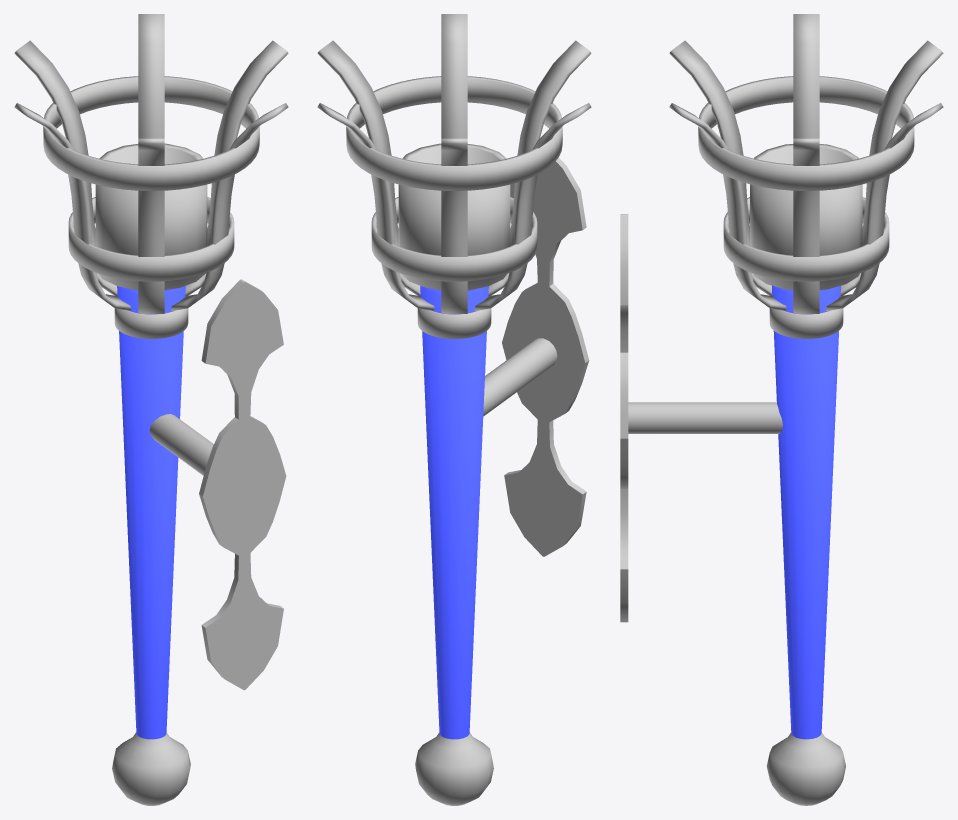
The model's file is Wall-Torch-001.fbx.
3 views of the same model, side by side, from view 1: azimuth 30°, elevation 25°; view 2: azimuth 150°, elevation 25°; view 3: azimuth 270°, elevation 25° (orthographic).
Parts seen in each view (by area): view 1: Wall-Mount, Handle, Ring-Lrg, Fire-Pot, Ring-Med, Handle-Pommel, Fire-Guard-005, Fire-Guard-001, Fire-Guard-004, Fire-Guard-002, Fire-Guard-006, Fire-Guard-003 (+2 smaller); view 2: Handle, Wall-Mount, Ring-Lrg, Fire-Pot, Ring-Med, Handle-Pommel, Fire-Guard-002, Fire-Guard-006, Fire-Guard-004, Fire-Guard-005, Wall-Mount-Arm, Fire-Guard-001 (+2 smaller); view 3: Handle, Ring-Lrg, Fire-Pot, Wall-Mount-Arm, Ring-Med, Handle-Pommel, Wall-Mount, Fire-Guard-004, Fire-Guard-003, Fire-Guard-002, Fire-Guard-005, Fire-Guard-001 (+2 smaller).
Boxes of the visible parts, x1,y1,x2,y2 form: Wall-Mount: (199, 279, 286, 690); Handle: (117, 286, 185, 739); Ring-Lrg: (43, 76, 259, 190); Fire-Pot: (95, 143, 207, 290); Ring-Med: (68, 197, 234, 281); Handle-Pommel: (112, 732, 190, 805); Fire-Guard-005: (138, 138, 164, 313); Fire-Guard-001: (138, 14, 164, 138); Fire-Guard-004: (185, 40, 288, 295); Fire-Guard-002: (14, 40, 117, 295); Fire-Guard-006: (171, 103, 288, 310); Fire-Guard-003: (14, 103, 130, 310); Handle: (420, 286, 488, 739); Wall-Mount: (502, 157, 589, 556); Ring-Lrg: (346, 76, 562, 190); Fire-Pot: (398, 143, 510, 290); Ring-Med: (371, 197, 537, 281); Handle-Pommel: (415, 732, 493, 805); Fire-Guard-002: (441, 138, 467, 313); Fire-Guard-006: (441, 14, 467, 138); Fire-Guard-004: (317, 40, 420, 295); Fire-Guard-005: (488, 40, 591, 295); Wall-Mount-Arm: (483, 338, 557, 416); Fire-Guard-001: (317, 103, 434, 310); Handle: (772, 285, 840, 739); Ring-Lrg: (698, 76, 914, 190); Fire-Pot: (750, 144, 862, 289); Wall-Mount-Arm: (628, 402, 782, 433); Ring-Med: (723, 197, 889, 281); Handle-Pommel: (766, 732, 845, 805); Wall-Mount: (620, 214, 628, 622); Fire-Guard-004: (793, 138, 819, 313); Fire-Guard-003: (793, 14, 819, 138); Fire-Guard-002: (840, 40, 943, 295); Fire-Guard-005: (669, 40, 772, 295); Fire-Guard-001: (826, 103, 943, 310).
Bounding box in the file's own units: 11.39 × 30.23 × 12.21.
